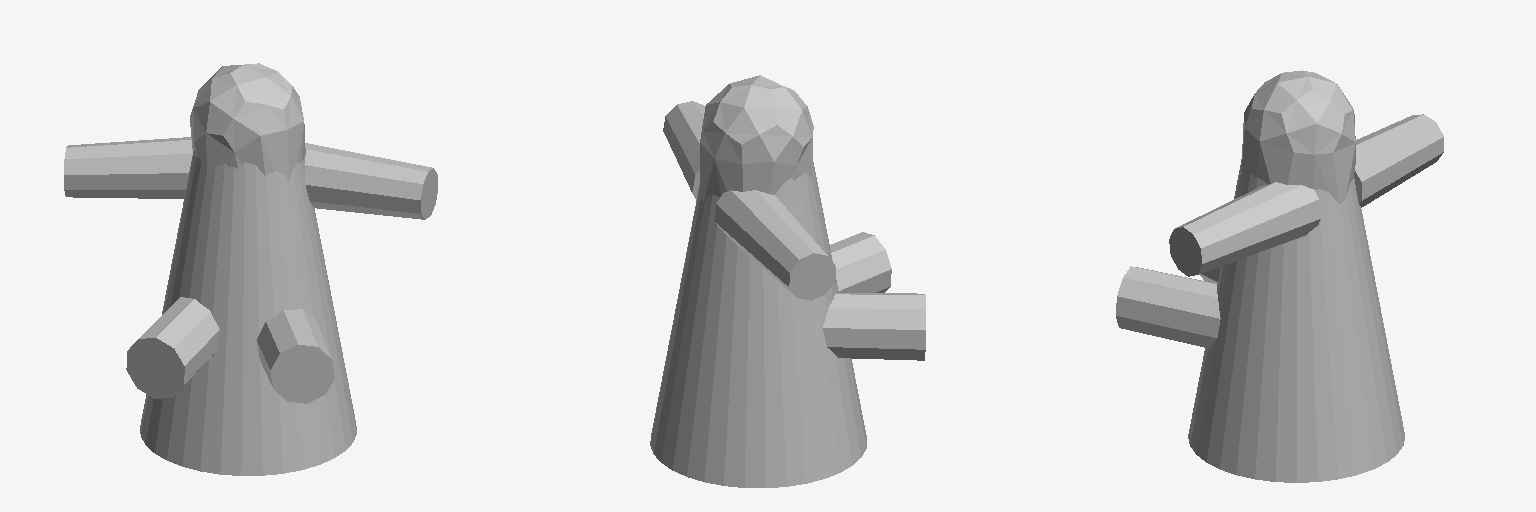
File: keko_col.obj
The picture shows the model from 3 angles: view 1: azimuth 30°, elevation 25°; view 2: azimuth 150°, elevation 25°; view 3: azimuth 270°, elevation 25°; orthographic projection.
Size of the model in its own units: 0.7172 by 0.8612 by 0.7108.